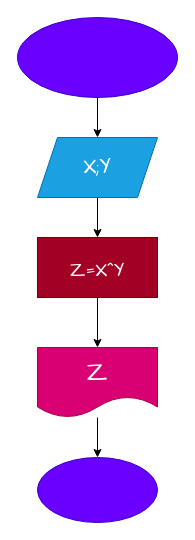
The diagram is 195 pixels wide and 540 high, and some of its shapes have lost their labels. Each missing label, with the centre of its shape:
"Fin" belongs at point (97, 489).
"Inicio" belongs at point (97, 57).
